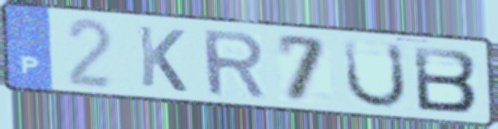2: (64, 17, 118, 91)
7: (273, 31, 335, 104)
B: (410, 43, 480, 115)
K: (135, 23, 190, 95)
R: (199, 27, 270, 101)
U: (341, 37, 410, 110)
